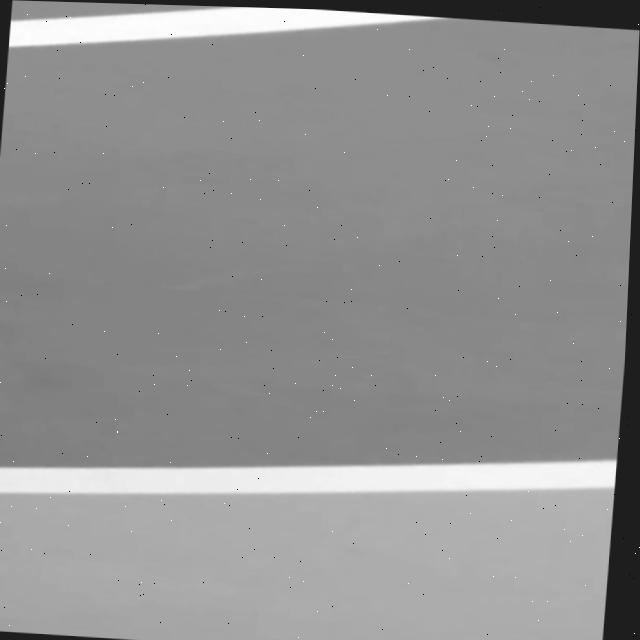center: (7, 6, 441, 46)
right: (0, 459, 616, 492)
